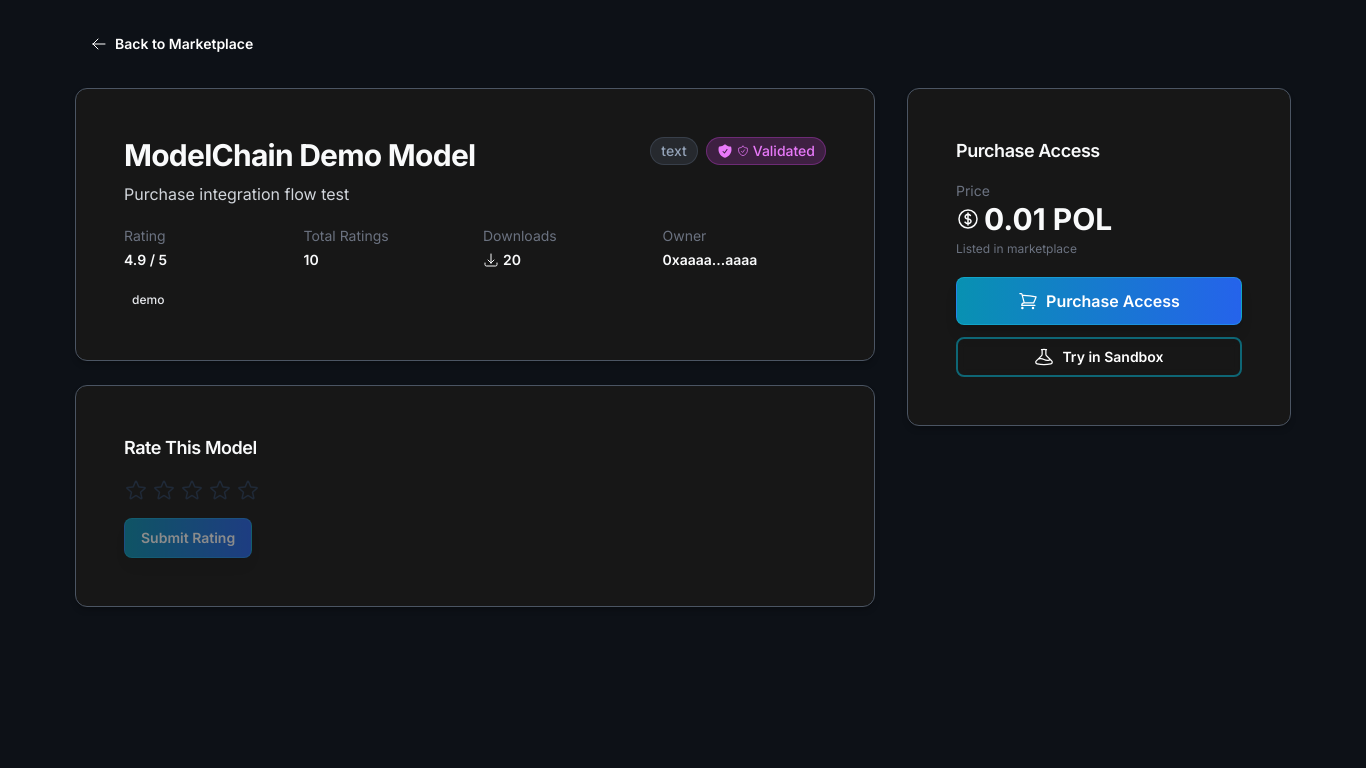
Purchase integration › purchases a listed model and shows success feedback
Step 1. Click the button "Purchase Access" → [1099, 301], box [956, 277, 1242, 325]
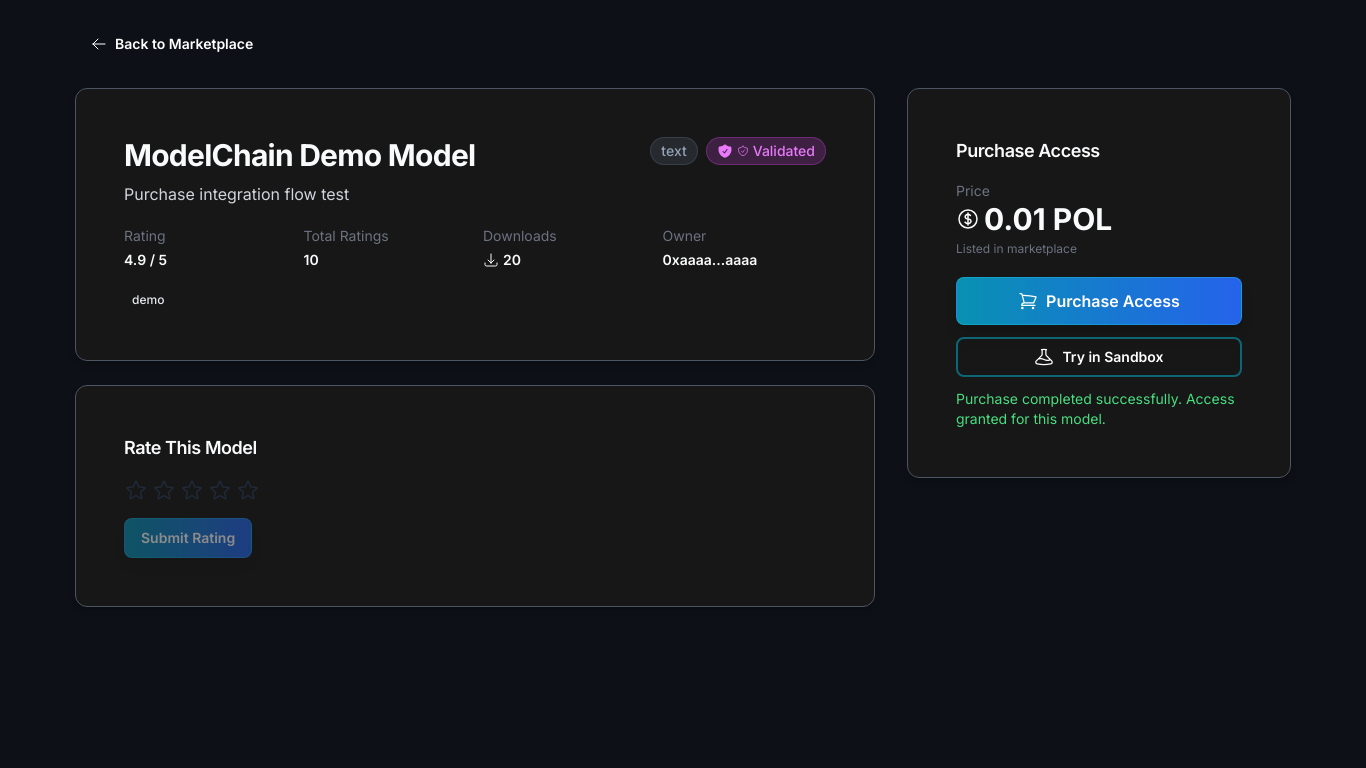
Expected: the text "Purchase completed successfully" is shown, [956, 390, 1234, 427]
